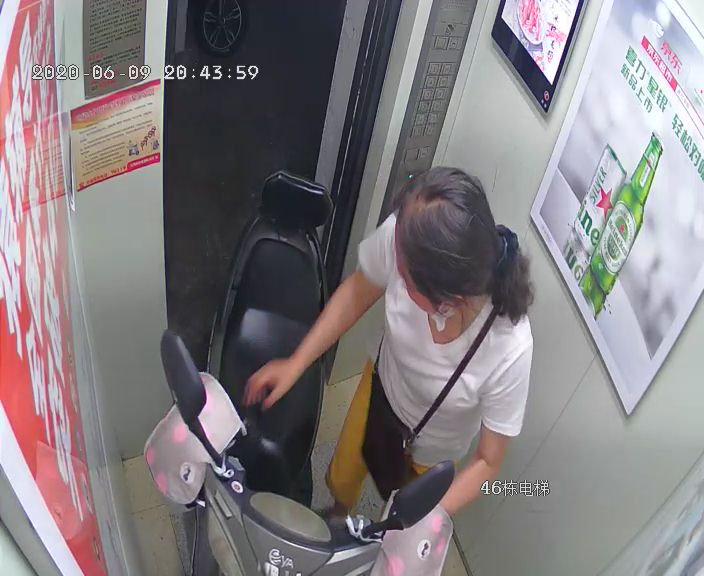Electric-bicycle: (202, 174, 367, 574)
